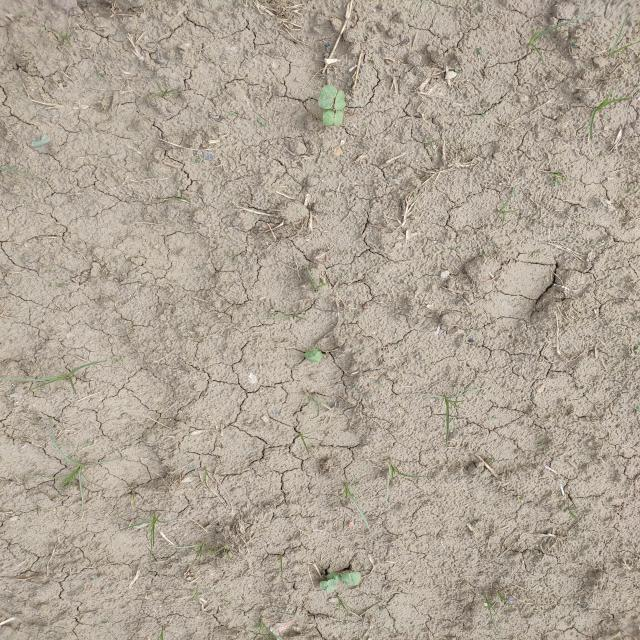seedling: (317, 85, 337, 109), (334, 90, 346, 110), (341, 571, 361, 582), (322, 108, 334, 125), (308, 350, 323, 362), (327, 572, 342, 583), (333, 111, 344, 125), (326, 579, 337, 592), (305, 349, 318, 359), (345, 579, 361, 586), (320, 581, 328, 589)
